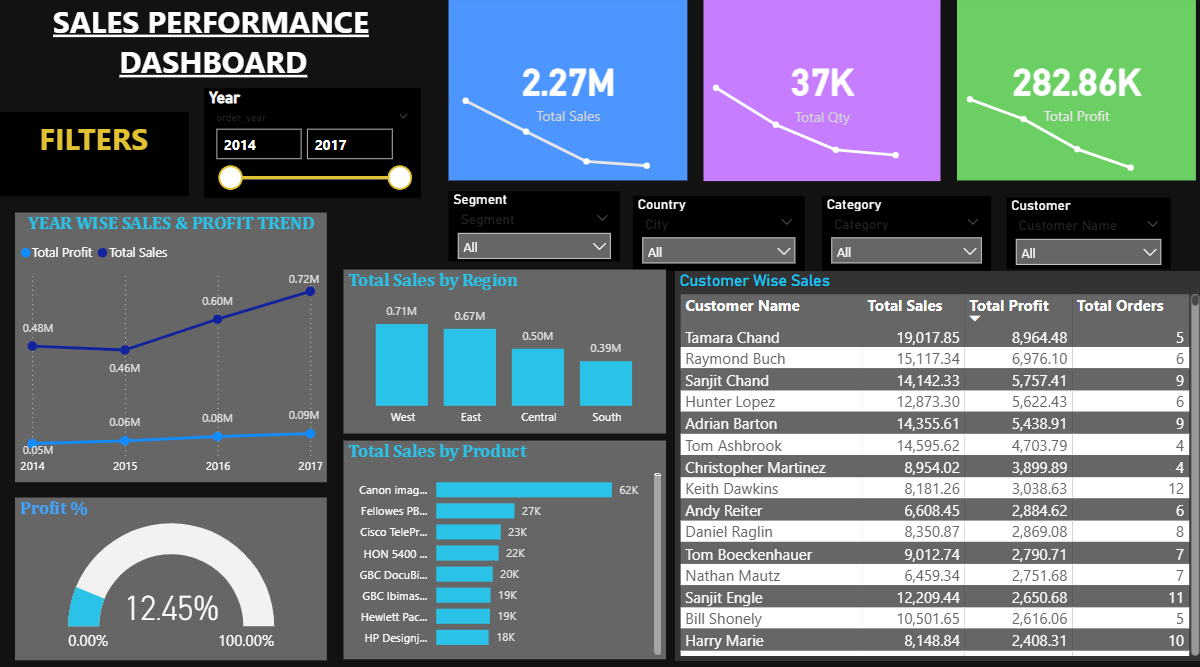

The page's visual inventory and layout, read from the dashboard file:
{"tool":"powerbi","page":{"name":"Page 1","canvas":[1280,720],"ordinal":0},"visuals":[{"type":"textbox","box":[53.9,0,377.5,140.6],"z":0},{"type":"card","fields":{"Values":["superstore.Total Sales"]},"box":[479,0,253.2,196.8],"z":1000},{"type":"card","fields":{"Values":["superstore.Total Qty"]},"box":[749.2,0,251.3,197.2],"z":2000},{"type":"card","fields":{"Values":["superstore.Total Profit"]},"box":[1017.7,0,253.2,196.8],"z":3000},{"type":"lineChart","fields":{"Y":["superstore.Total Sales"],"Category":["superstore.order_year"]},"box":[466.1,77.4,253.2,125.8],"z":4000},{"type":"lineChart","fields":{"Y":["superstore.Quantity"],"Category":["superstore.order_year"]},"box":[731.7,54.1,251.3,143.2],"z":5000},{"type":"lineChart","fields":{"Y":["superstore.Total Profit"],"Category":["superstore.order_year"]},"box":[1003.2,83.9,225.8,119.4],"z":6000},{"type":"clusteredBarChart","title":"Total Sales by Product","fields":{"Y":["superstore.Total Sales"],"Category":["superstore.Product Name"]},"box":[367.7,472.6,341.9,232.3],"z":7000},{"type":"tableEx","title":"Customer Wise Sales","fields":{"Values":["superstore.Customer Name","superstore.Total Sales","superstore.Total Profit","superstore.Total Orders"]},"box":[719.4,291.9,561.3,412.9],"z":8000},{"type":"slicer","title":"Year","fields":{"Values":["superstore.order_year"]},"box":[219.5,98.6,229,116.1],"z":9000},{"type":"slicer","title":"Segment","fields":{"Values":["superstore.Segment"]},"box":[479,208.1,182.3,74.2],"z":10000},{"type":"slicer","title":"Category","fields":{"Values":["superstore.Category"]},"box":[874.2,212.9,179,79],"z":11000},{"type":"slicer","title":"Customer","fields":{"Values":["superstore.Customer Name"]},"box":[1071,214.5,174.2,75.8],"z":12000},{"type":"textbox","box":[1.6,124.1,202,89.1],"z":13000},{"type":"slicer","title":"Country","fields":{"Values":["superstore.City"]},"box":[674.2,212.9,182.3,79],"z":14000},{"type":"clusteredColumnChart","fields":{"Category":["superstore.Region"],"Y":["superstore.Total Sales"]},"box":[367.7,290.3,341.9,174.2],"z":15000},{"type":"gauge","title":"Profit %","fields":{"Y":["superstore.Profit Margin %"]},"box":[19.4,532.3,330.6,172.6],"z":16000},{"type":"lineChart","title":"YEAR WISE SALES & PROFIT TREND","fields":{"Category":["superstore.order_year"],"Y":["superstore.Total Profit","superstore.Total Sales"]},"box":[19.1,230.6,330.8,286.3],"z":17000}]}

Visuals, with their boxes in screenshot pixels (x1, y1, x2, y2), scaled from the page's 1280x720 canvas onto the 1200x667 screenshot:
textbox: bbox(51, 0, 404, 130)
card - superstore.Total Sales: bbox(449, 0, 686, 182)
card - superstore.Total Qty: bbox(702, 0, 938, 183)
card - superstore.Total Profit: bbox(954, 0, 1191, 182)
lineChart - superstore.Total Sales x superstore.order_year: bbox(437, 72, 674, 188)
lineChart - superstore.Quantity x superstore.order_year: bbox(686, 50, 922, 183)
lineChart - superstore.Total Profit x superstore.order_year: bbox(940, 78, 1152, 188)
"Total Sales by Product" clusteredBarChart: bbox(345, 438, 665, 653)
"Customer Wise Sales" tableEx: bbox(674, 270, 1199, 653)
"Year" slicer: bbox(206, 91, 420, 199)
"Segment" slicer: bbox(449, 193, 620, 262)
"Category" slicer: bbox(820, 197, 987, 270)
"Customer" slicer: bbox(1004, 199, 1167, 269)
textbox: bbox(2, 115, 191, 198)
"Country" slicer: bbox(632, 197, 803, 270)
clusteredColumnChart - superstore.Region x superstore.Total Sales: bbox(345, 269, 665, 430)
"Profit %" gauge: bbox(18, 493, 328, 653)
"YEAR WISE SALES & PROFIT TREND" lineChart: bbox(18, 214, 328, 479)
